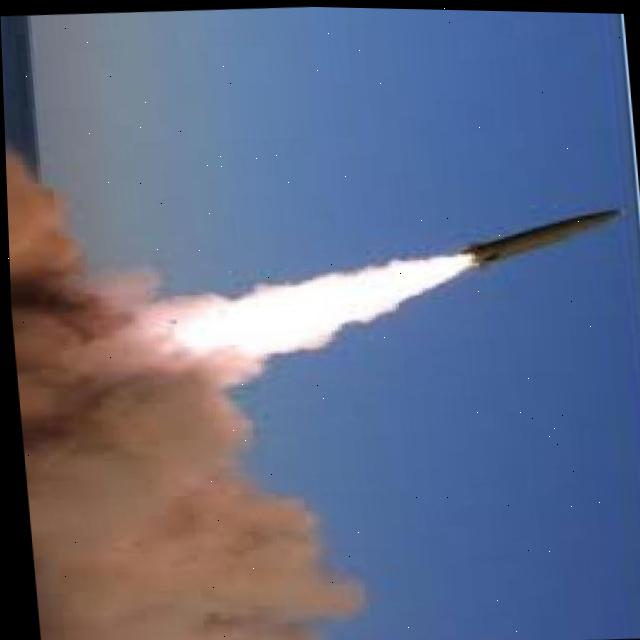missile: (463, 198, 624, 277)
